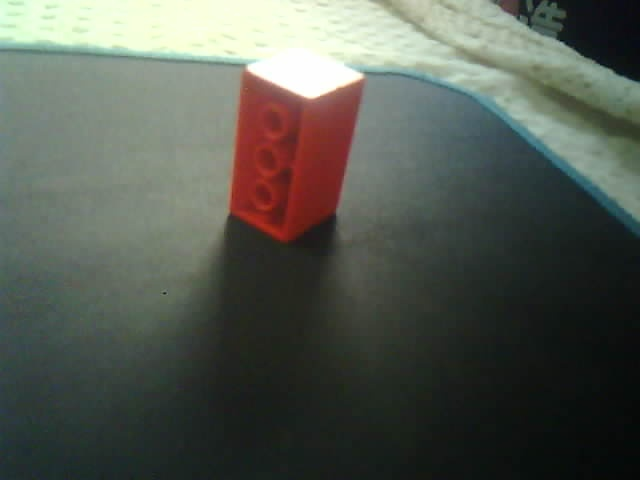lego: (227, 47, 366, 245)
